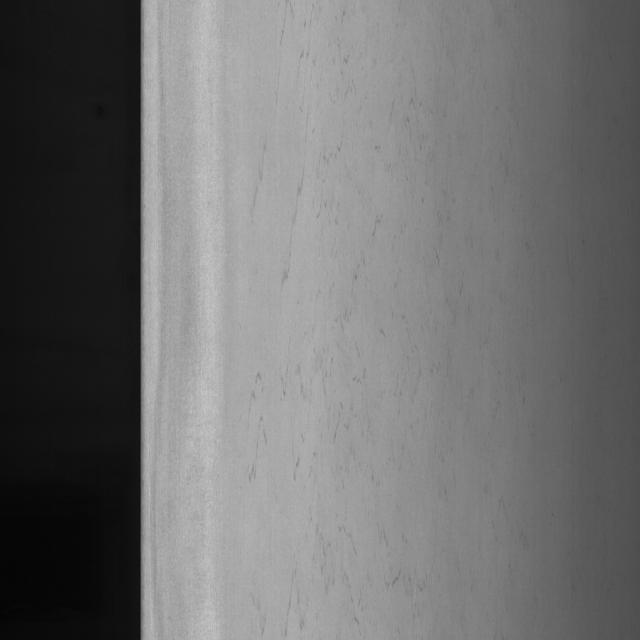inclusion: (230, 29, 434, 584)
